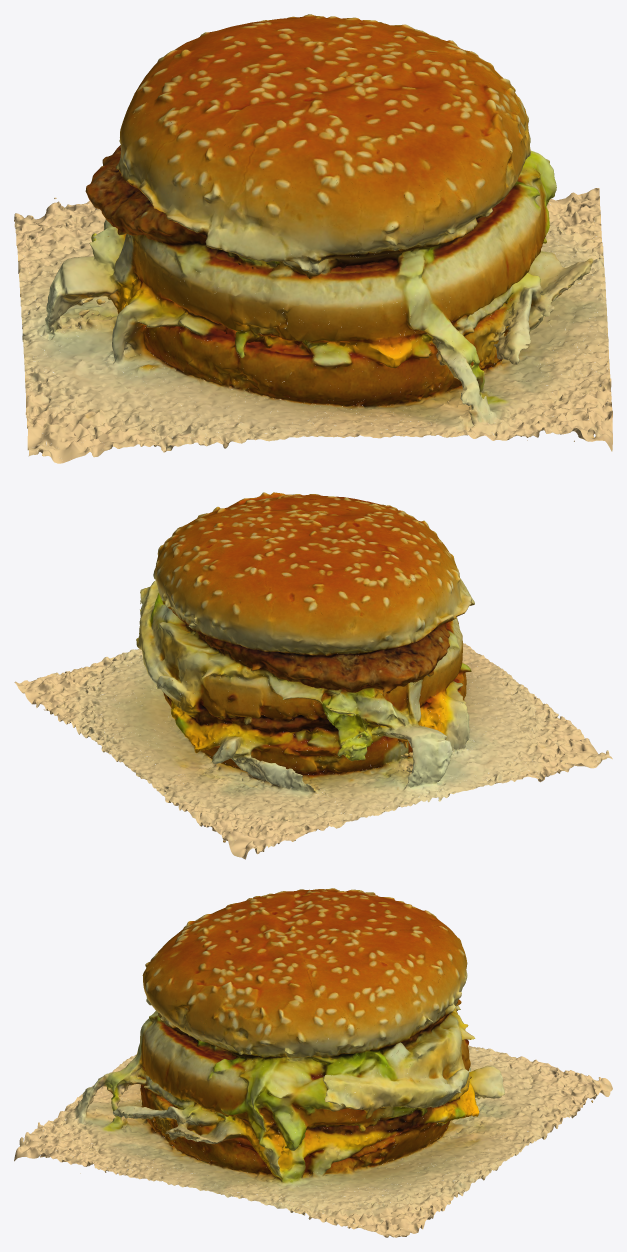
File: hamburguesa.glb
The picture shows the model from 3 angles, top to bottom: view 1: azimuth 30°, elevation 25°; view 2: azimuth 150°, elevation 25°; view 3: azimuth 270°, elevation 25°; orthographic projection. The views are drawn at different scales.
Parts seen in each view (by area): view 1: Model; view 2: Model; view 3: Model.
Boxes of the visible parts, x1,y1,x2,y2 form: Model: (14,14,612,463); Model: (14,492,612,859); Model: (14,888,612,1237).
Bounding box in the file's own units: 7.36 × 2.79 × 7.3.
1 material, 1 textured.
